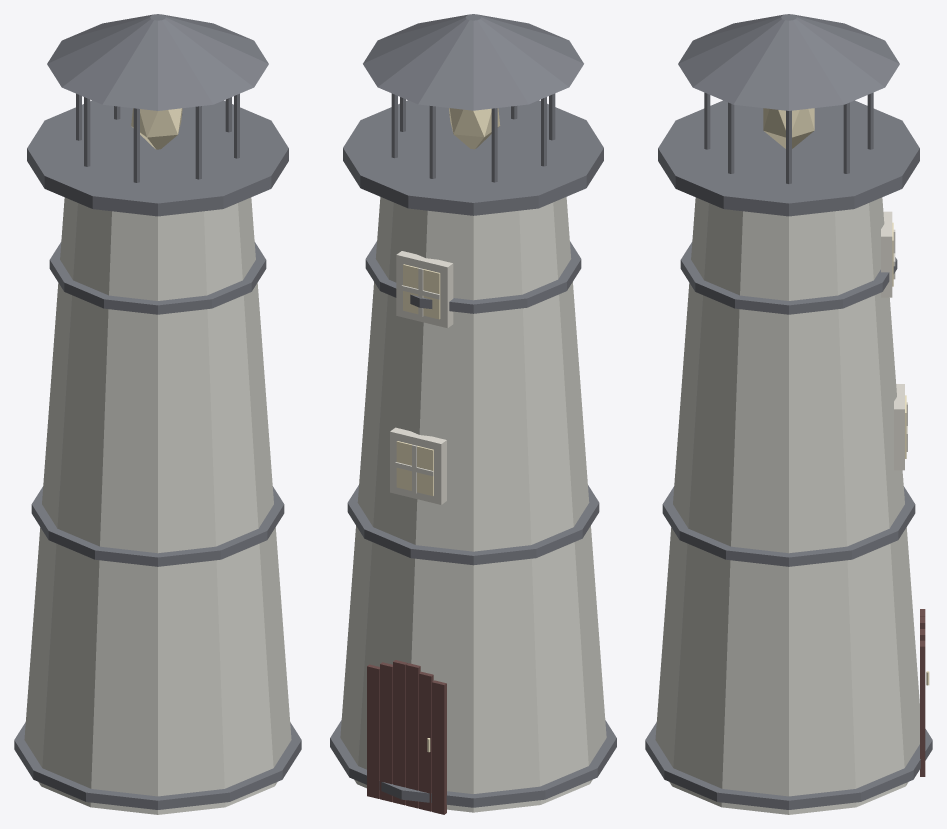
The model's file is Lighthouse.fbx.
3 views of the same model, side by side, from view 1: azimuth 30°, elevation 25°; view 2: azimuth 150°, elevation 25°; view 3: azimuth 270°, elevation 25° (orthographic).
Visible parts, largest first — view 1: Tower, LanternBase, Roof, Cornice0, Cornice1, Cornice2, Beacon; view 2: Tower, LanternBase, Roof, Cornice1, Cornice0, Cornice2, WindowFrame1, WindowFrame0, DoorPlank5, DoorPlank3, DoorPlank0, DoorPlank2 (+5 smaller); view 3: Tower, LanternBase, Roof, Cornice0, Cornice1, Cornice2, Beacon, WindowFrame0, WindowFrame1, DoorPlank0.
Part boxes in pixels (<box>): Tower: <box>24,197,291,814</box>; LanternBase: <box>27,100,288,216</box>; Roof: <box>47,14,268,110</box>; Cornice0: <box>14,722,301,809</box>; Cornice1: <box>31,486,284,566</box>; Cornice2: <box>49,242,266,314</box>; Beacon: <box>131,108,182,149</box>; Tower: <box>340,197,606,812</box>; LanternBase: <box>343,100,603,215</box>; Roof: <box>363,14,583,110</box>; Cornice1: <box>347,485,599,565</box>; Cornice0: <box>330,720,616,807</box>; Cornice2: <box>365,241,581,313</box>; WindowFrame1: <box>396,251,453,328</box>; WindowFrame0: <box>390,427,446,504</box>; DoorPlank5: <box>432,680,446,814</box>; DoorPlank3: <box>406,663,420,808</box>; DoorPlank0: <box>367,664,379,798</box>; DoorPlank2: <box>393,660,407,805</box>; Tower: <box>655,197,919,814</box>; LanternBase: <box>658,100,919,216</box>; Roof: <box>678,14,899,110</box>; Cornice0: <box>645,722,932,809</box>; Cornice1: <box>662,486,915,566</box>; Cornice2: <box>680,242,897,314</box>; Beacon: <box>763,108,814,148</box>; WindowFrame0: <box>894,384,904,470</box>; WindowFrame1: <box>881,211,892,297</box>; DoorPlank0: <box>920,640,925,776</box>.
Size of the model in its own units: 3.62 by 10.3 by 3.62.
